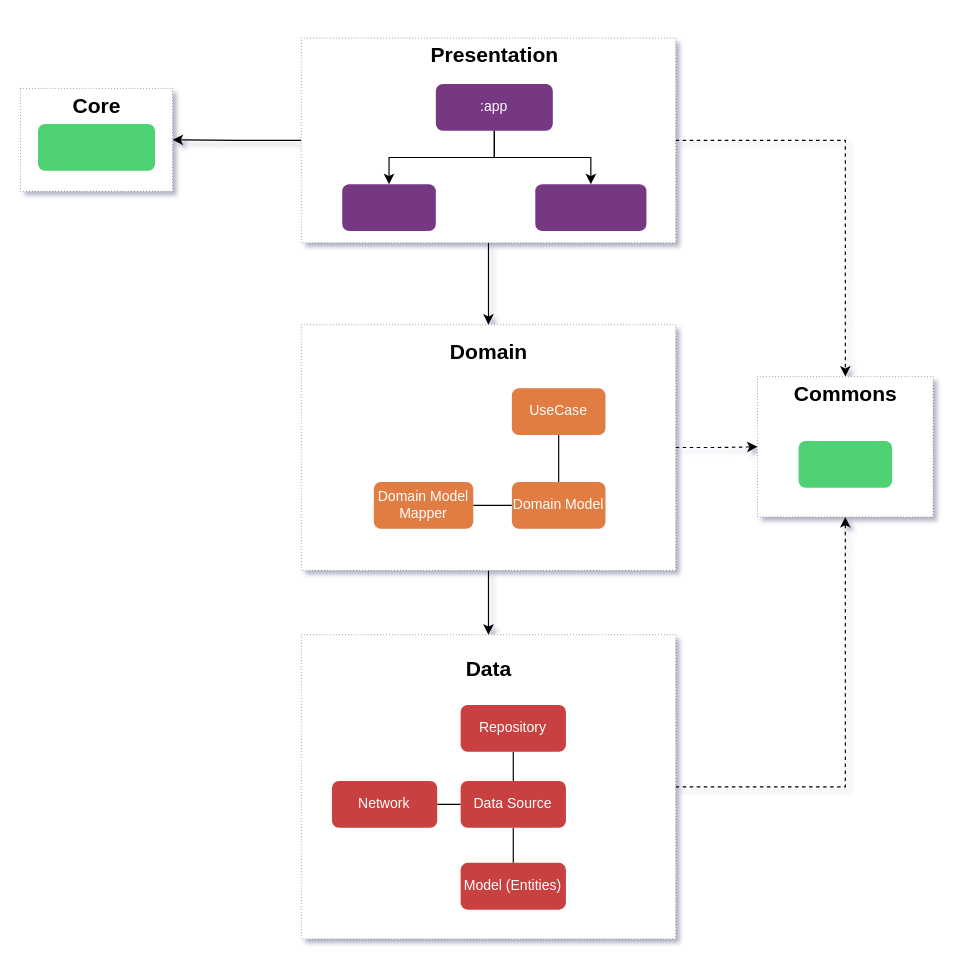
Some shapes in this 961 by 966 pixel diagram are drawn without their labels. Here are the shapes that lost their labels. From the top down, the centre of each, then its label:
the point at 95,146: :view
the point at 388,207: :feature:home
the point at 590,207: :feature:details
the point at 845,463: :commons
